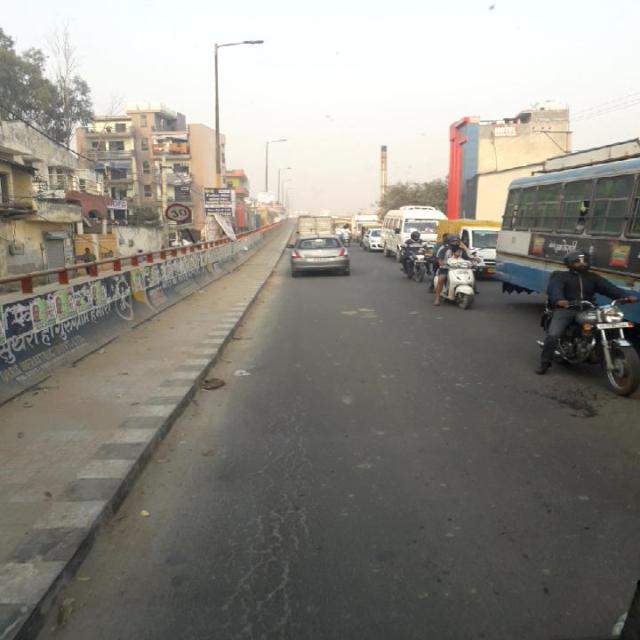D20: (168, 388, 337, 638)
